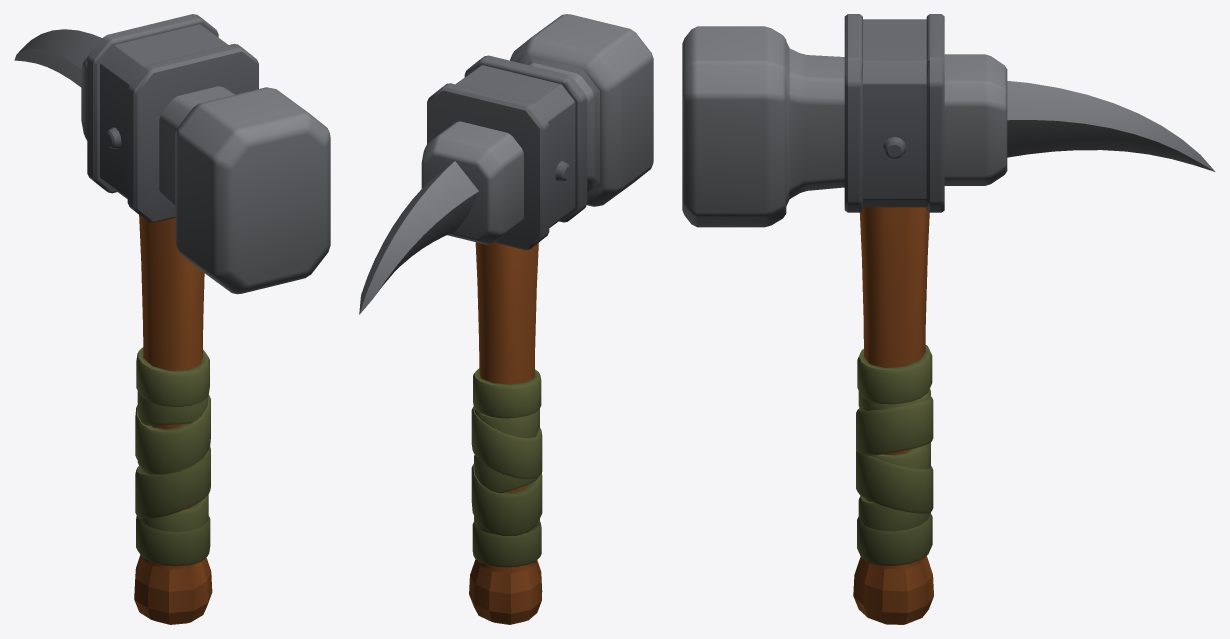
Rendered from hammer_pickaxe.glb.
3 views of the same model, side by side, from view 1: azimuth 30°, elevation 25°; view 2: azimuth 150°, elevation 25°; view 3: azimuth 270°, elevation 25° (orthographic). The views are drawn at different scales.
Visible parts, largest first — view 1: head_hammer_side, head_collar, handle_wrap, handle, head_pick_side; view 2: head_collar, head_hammer_side, head_pick_side, handle_wrap, handle; view 3: head_hammer_side, head_collar, head_pick_side, handle_wrap, handle.
Part boxes in pixels (x1=…): head_hammer_side: x1=159, y1=86, x2=330, y2=294; head_collar: x1=87, y1=14, x2=258, y2=222; handle_wrap: x1=135, y1=347, x2=210, y2=566; handle: x1=134, y1=215, x2=212, y2=624; head_pick_side: x1=14, y1=29, x2=102, y2=140; head_collar: x1=427, y1=55, x2=587, y2=250; head_hammer_side: x1=510, y1=14, x2=653, y2=206; head_pick_side: x1=359, y1=121, x2=523, y2=314; handle_wrap: x1=471, y1=368, x2=542, y2=567; handle: x1=469, y1=242, x2=542, y2=624; head_hammer_side: x1=682, y1=26, x2=844, y2=227; head_collar: x1=844, y1=14, x2=944, y2=212; head_pick_side: x1=944, y1=54, x2=1215, y2=185; handle_wrap: x1=856, y1=345, x2=933, y2=565; handle: x1=853, y1=207, x2=933, y2=624.
Size of the model in its own units: 0.142 by 0.6 by 0.502.
